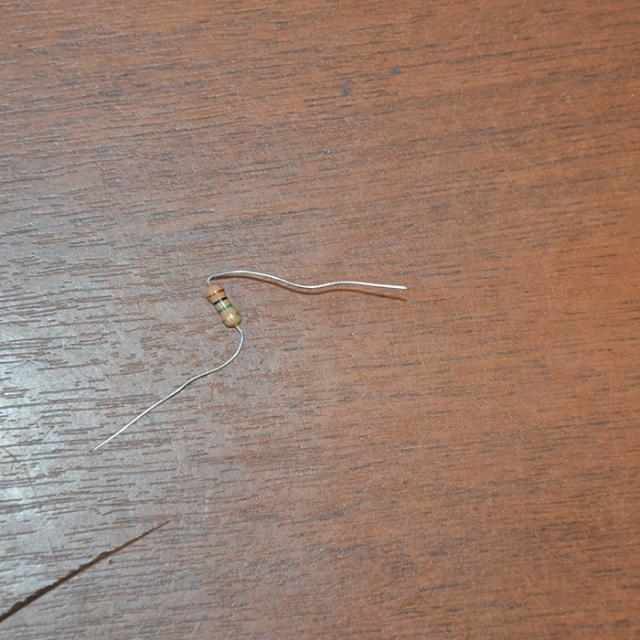black: (212, 294, 227, 304)
brown: (207, 286, 223, 299)
gold: (223, 310, 239, 323)
green: (217, 302, 230, 312)
resistor: (195, 280, 247, 336)
